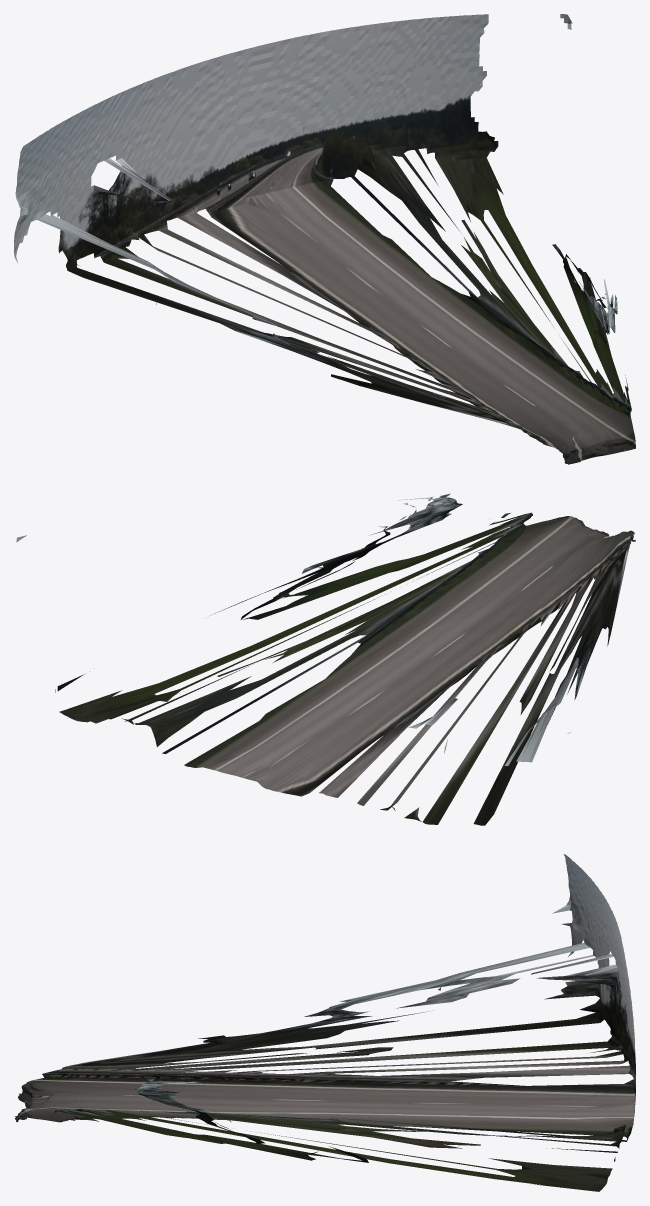
3 views of the same model, one above another, from view 1: azimuth 30°, elevation 25°; view 2: azimuth 150°, elevation 25°; view 3: azimuth 270°, elevation 25° (orthographic). The views are drawn at different scales.
Parts seen in each view (by area): view 1: defaultobject; view 2: defaultobject; view 3: defaultobject.
Part boxes in pixels (x1=…): defaultobject: x1=14, y1=14, x2=635, y2=464; defaultobject: x1=16, y1=493, x2=635, y2=825; defaultobject: x1=15, y1=854, x2=635, y2=1191.
Size of the model in its own units: 40.77 by 11.99 by 44.55.
1 material, 1 textured.
